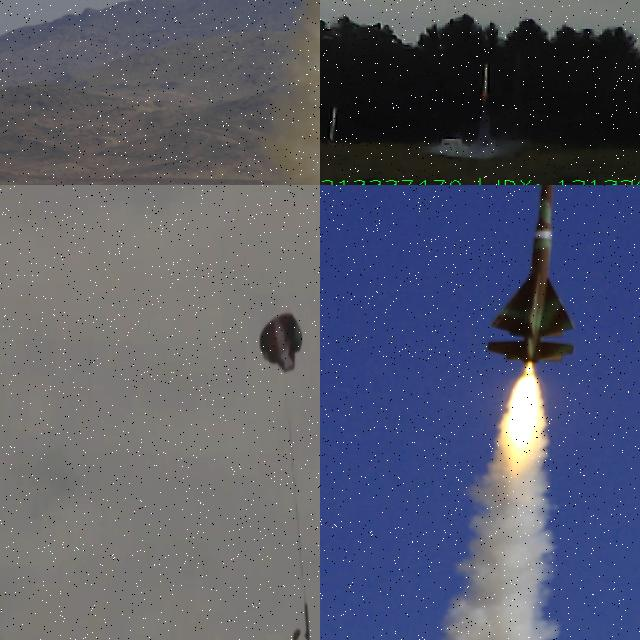Rocket: (485, 185, 576, 365), (327, 107, 337, 142), (480, 62, 489, 100), (304, 602, 310, 640)
